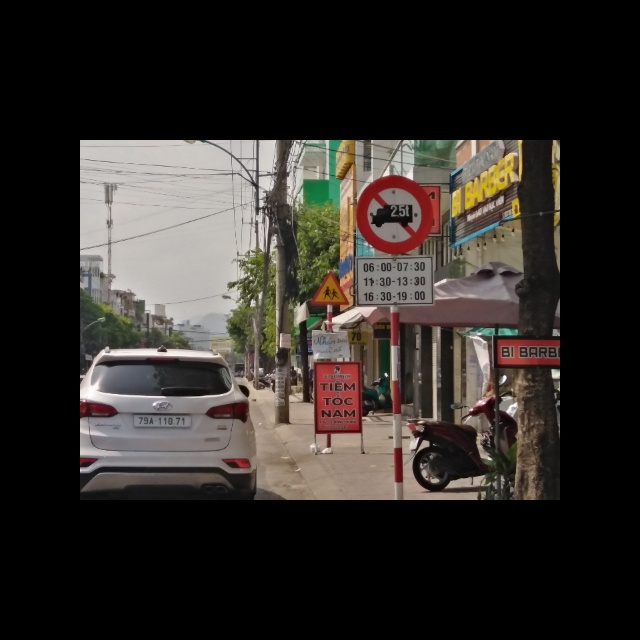Cấm xe tải: (352, 175, 432, 255)
Trẻ em ngang qua: (308, 269, 349, 306)
